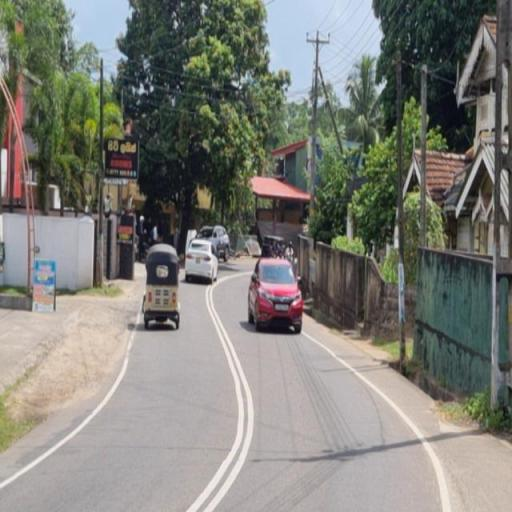double_white_line: (196, 284, 256, 510)
